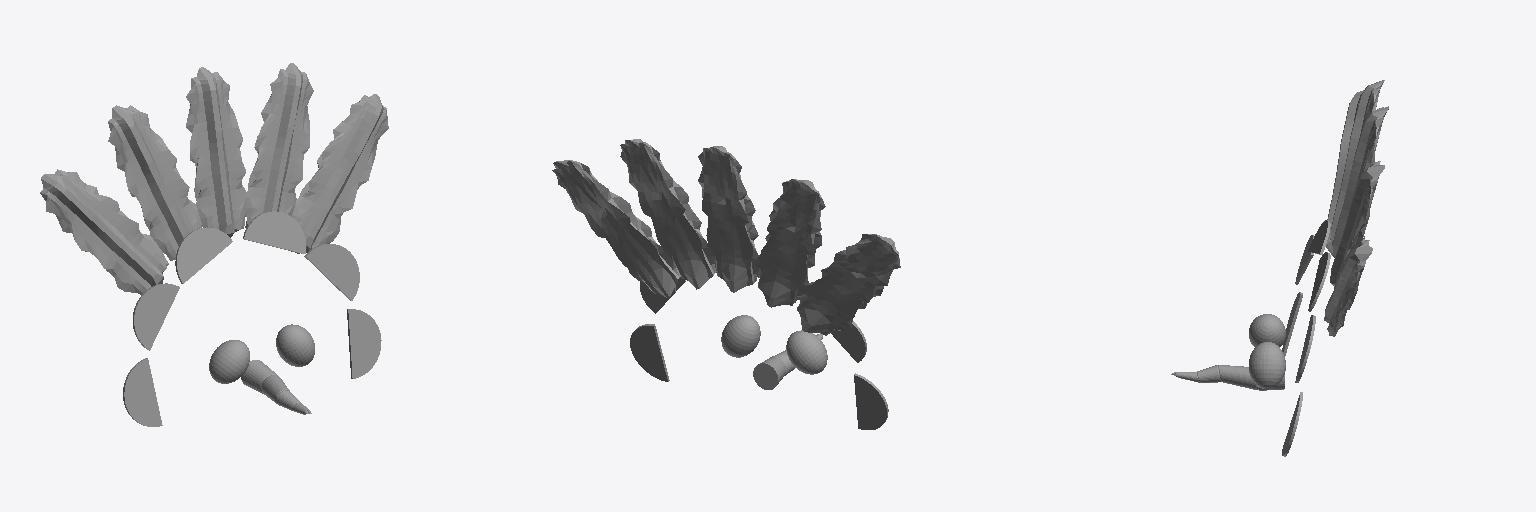
Rendered from saladheadSSB.obj.
The picture shows the model from 3 angles: view 1: azimuth 30°, elevation 25°; view 2: azimuth 150°, elevation 25°; view 3: azimuth 270°, elevation 25°; orthographic projection.
Visible parts, largest first — view 1: Cube.004_Cube.004_1001; view 2: Cube.004_Cube.004_1001; view 3: Cube.004_Cube.004_1001.
Part boxes in pixels (left/top/right/bottom): Cube.004_Cube.004_1001: left=40, top=63, right=388, bottom=426; Cube.004_Cube.004_1001: left=552, top=139, right=900, bottom=429; Cube.004_Cube.004_1001: left=1171, top=80, right=1388, bottom=456.
Size of the model in its own units: 4.98 by 4.08 by 2.71.